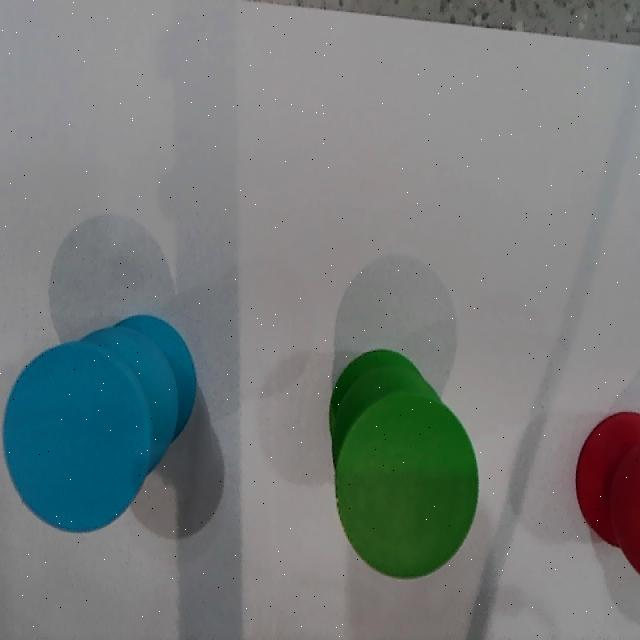b: (4, 343, 149, 532)
g: (336, 391, 479, 579)
